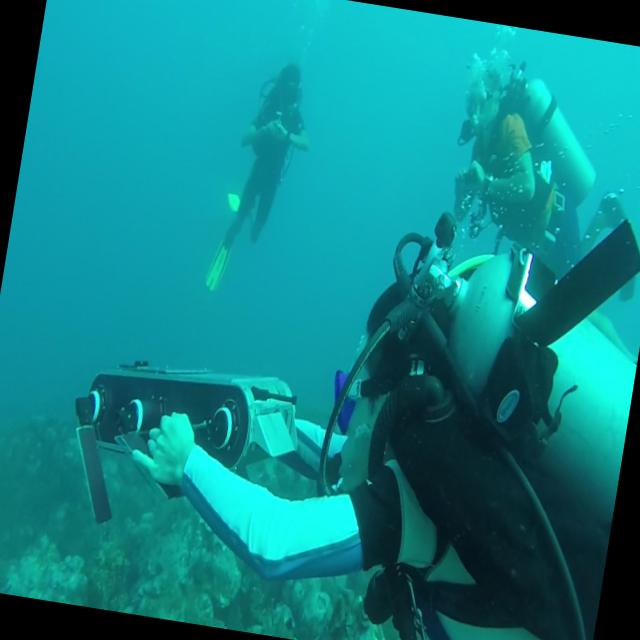human: (105, 240, 640, 640), (435, 42, 614, 289), (202, 53, 320, 304)
